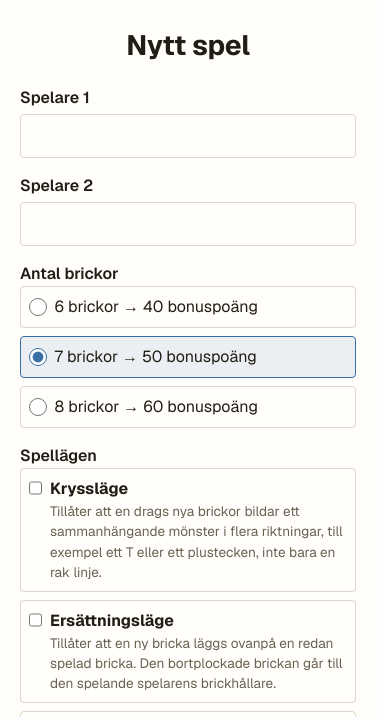
Test: GameSetup › requires at least one additional language before starting a Polyglot game
Step 1. Type "August" into the field labelled "Spelare 1" → (188, 136), box [20,114,356,158]
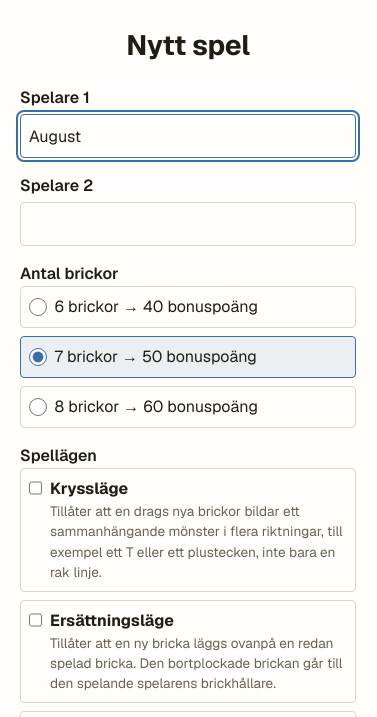
Step 2. Type "Anna" into the field labelled "Spelare 2" → (188, 224), box [20,202,356,246]
(page scrolled)
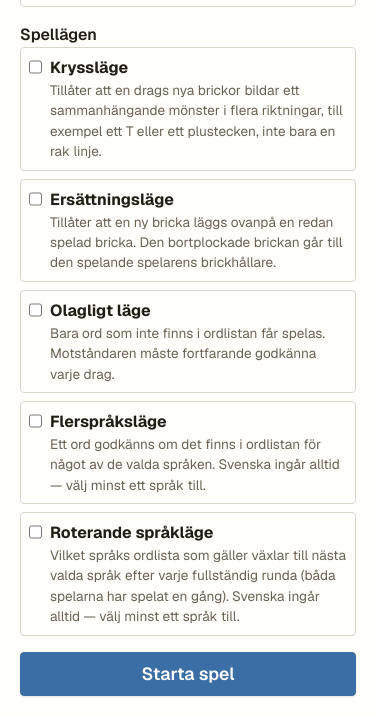
Step 3. Click the checkbox labelled "Flerspråksläge" → (36, 421), box [29,412,42,430]
(page scrolled)
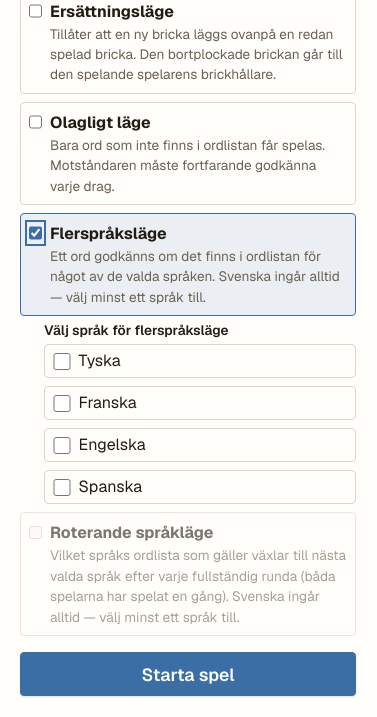
Step 4. Click the button "Starta spel" → (188, 674), box [20,652,356,696]
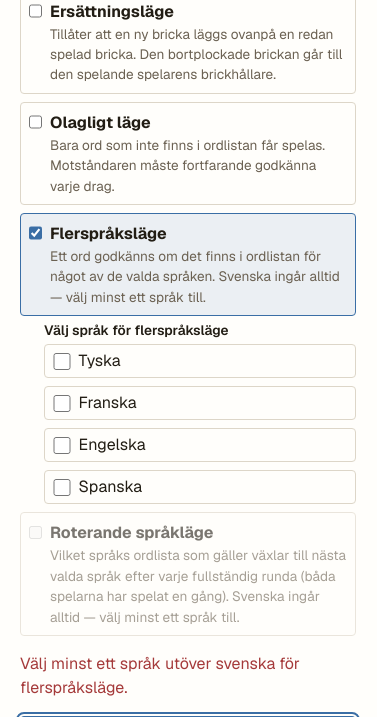
Now the message reads "Välj minst ett språk utöver svenska för flerspråksläge.", box [20,653,300,698]
